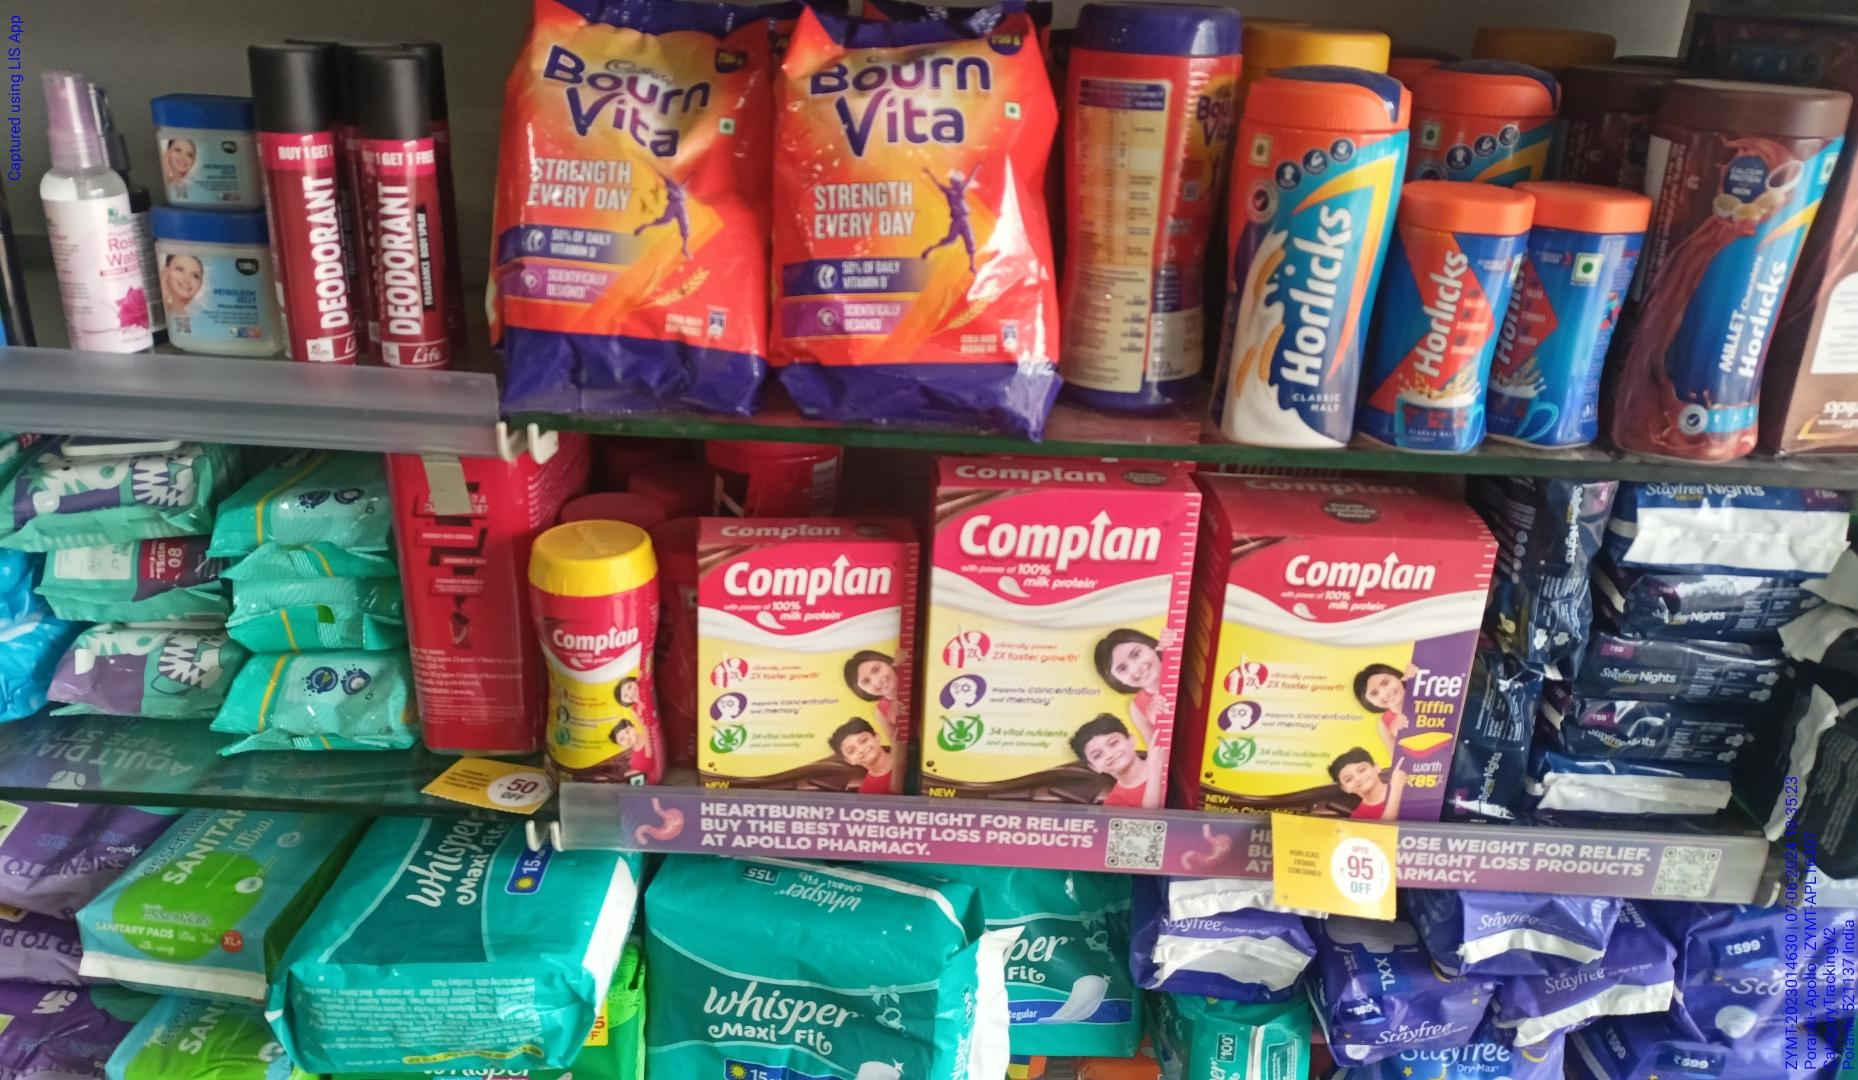BOURN_VITA_750_G_POUCH: (782, 18, 1052, 419), (509, 0, 757, 406)
COMPLAN_CHOCOLATE_200_GMS_JAR: (528, 546, 649, 795)
COMPLAN_CHOCOLATE_200_GMS_PACK: (703, 543, 906, 804)
COMPLAN_CHOCOLATE_500_GMS_PACK: (935, 485, 1180, 819), (1225, 534, 1461, 811)
HORLICK_CHOCOLATE_200_G_JAR: (1391, 177, 1512, 458)
HORLICK_CLASSIC_MALT_500_G_JAR: (1229, 80, 1389, 451)
